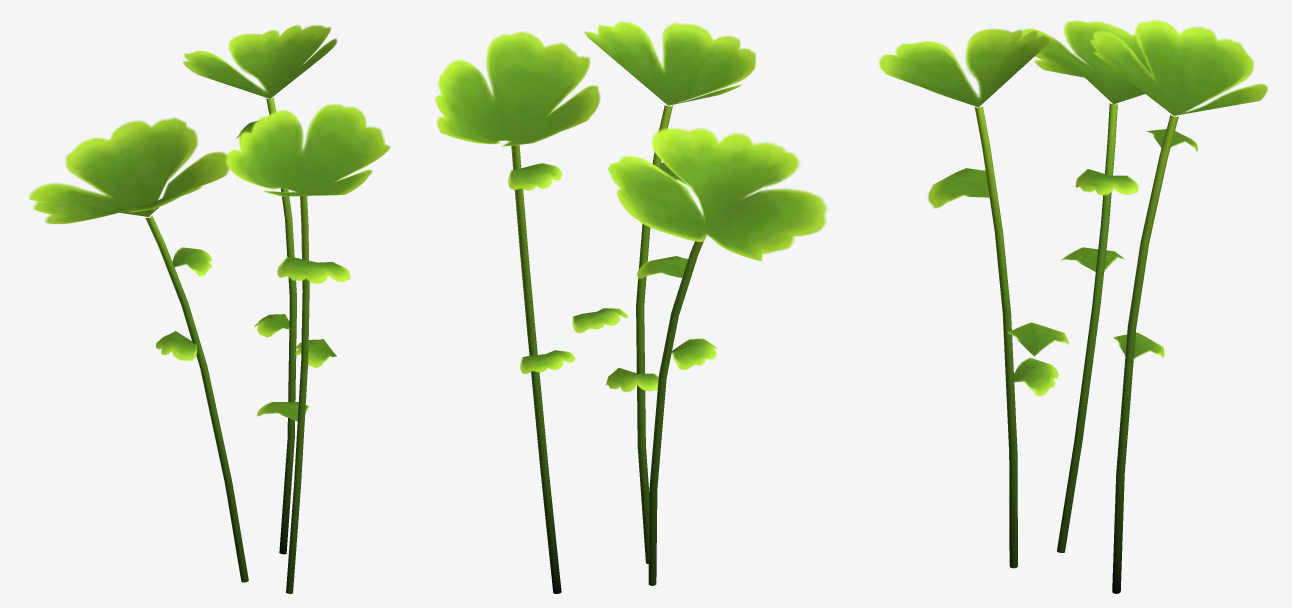
The model's file is clover-transformed.glb.
3 renders of one model, left to right at view 1: azimuth 30°, elevation 25°; view 2: azimuth 150°, elevation 25°; view 3: azimuth 270°, elevation 25°, orthographic. The views are drawn at different scales.
Visible parts, largest first — view 1: Clover_1; view 2: Clover_1; view 3: Clover_1.
Part boxes in pixels (<box>): Clover_1: <box>28,25,390,593</box>; Clover_1: <box>435,21,827,593</box>; Clover_1: <box>878,20,1267,593</box>.
Size of the model in its own units: 0.7963 by 1.14 by 0.7639.
1 material, 1 textured.
